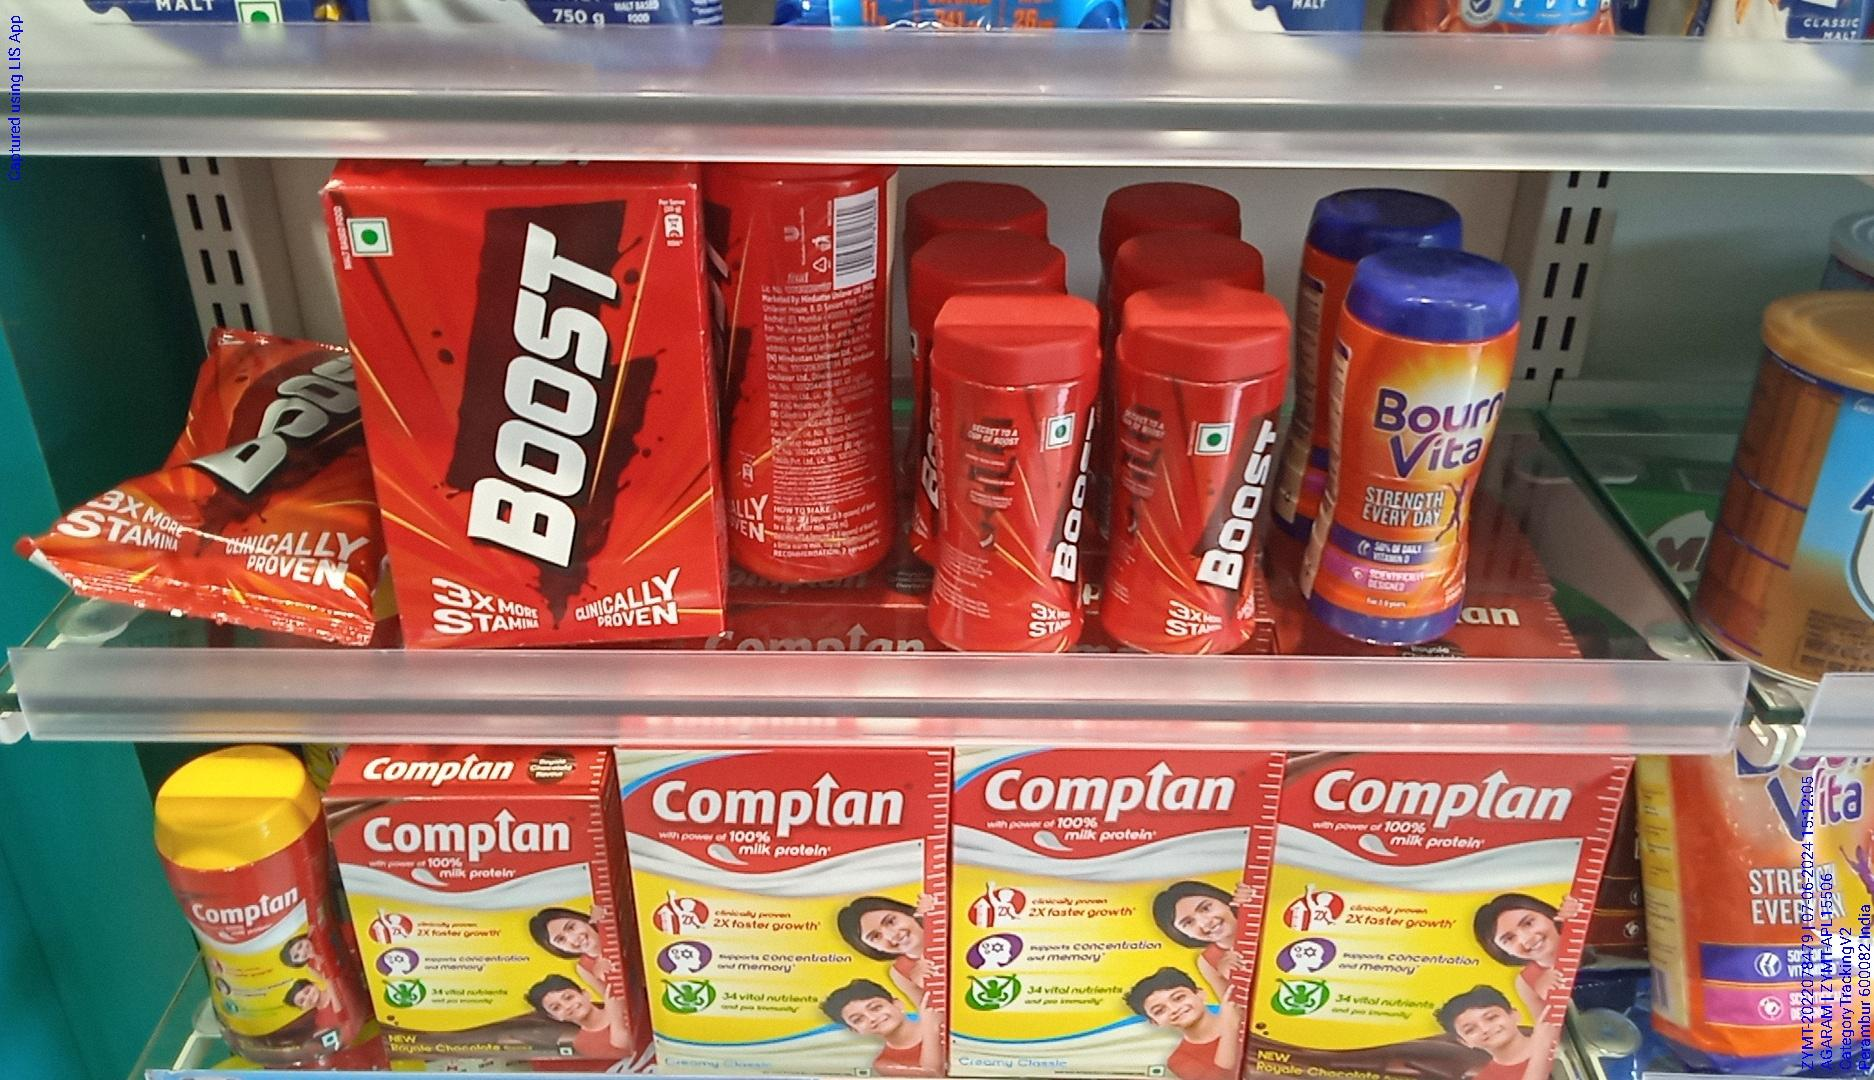BOURN_VITA_500_G_JAR: (1318, 268, 1487, 637)
COMPLAN_CHOCOLATE_500_GMS_JAR: (172, 796, 327, 1065)
COMPLAN_CHOCOLATE_500_GMS_PACK: (1283, 754, 1575, 1080), (348, 792, 615, 1056)
COMPLAN_CREAMY_CLASSIC_500_G_PACK: (633, 745, 936, 1080), (955, 747, 1239, 1080)
